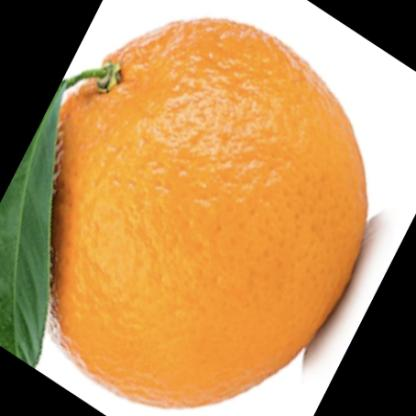fresh: (49, 22, 366, 401)
